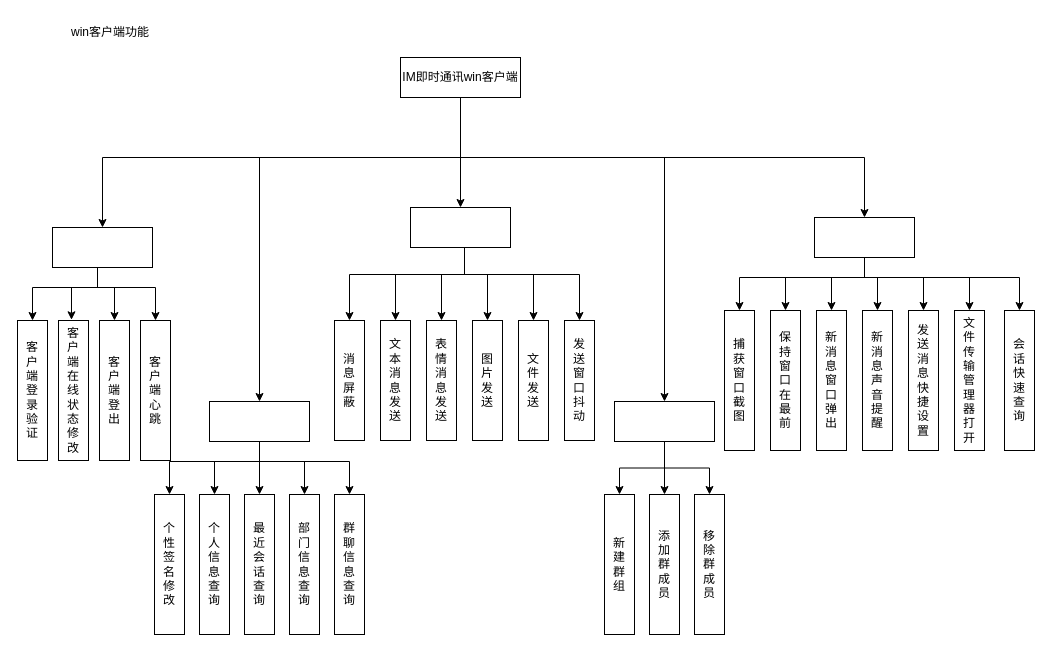
Some shapes in this 1052 by 652 pixel diagram are drawn without their labels. Each missing label, with the centre of its shape:
"即时通讯" goes at [460,227].
"客户端登录与退出" goes at [102,247].
"系统功能" goes at [864,237].
"群组/会话管理" goes at [664,421].
"账号信息查询" goes at [259,421].
